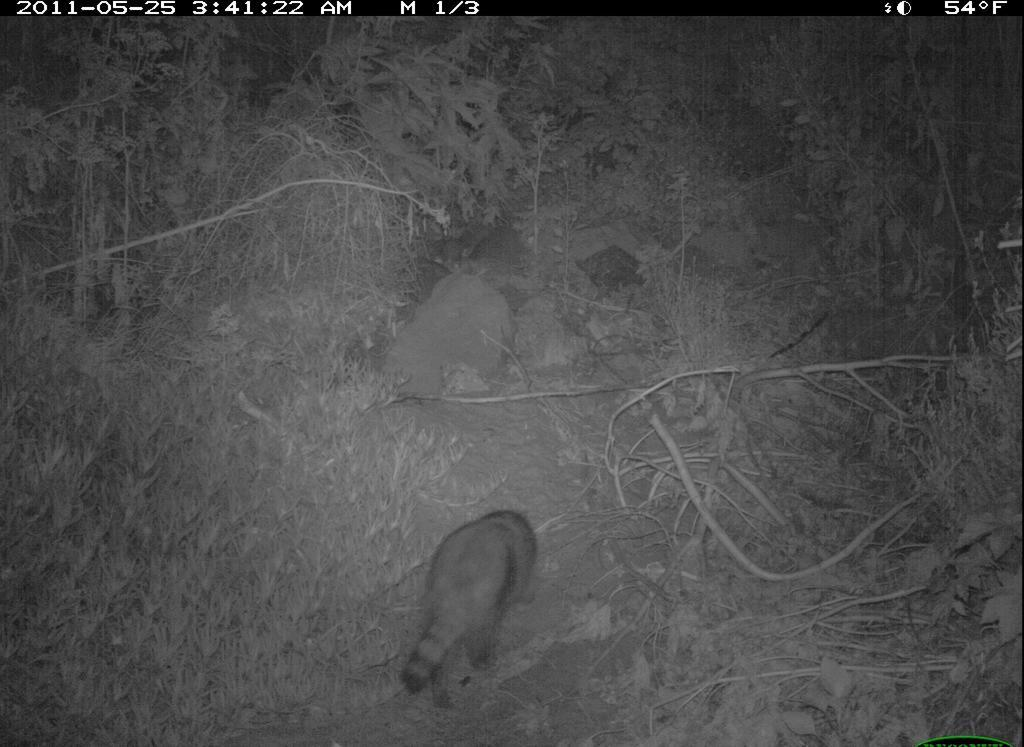raccoon: (392, 501, 545, 713)
